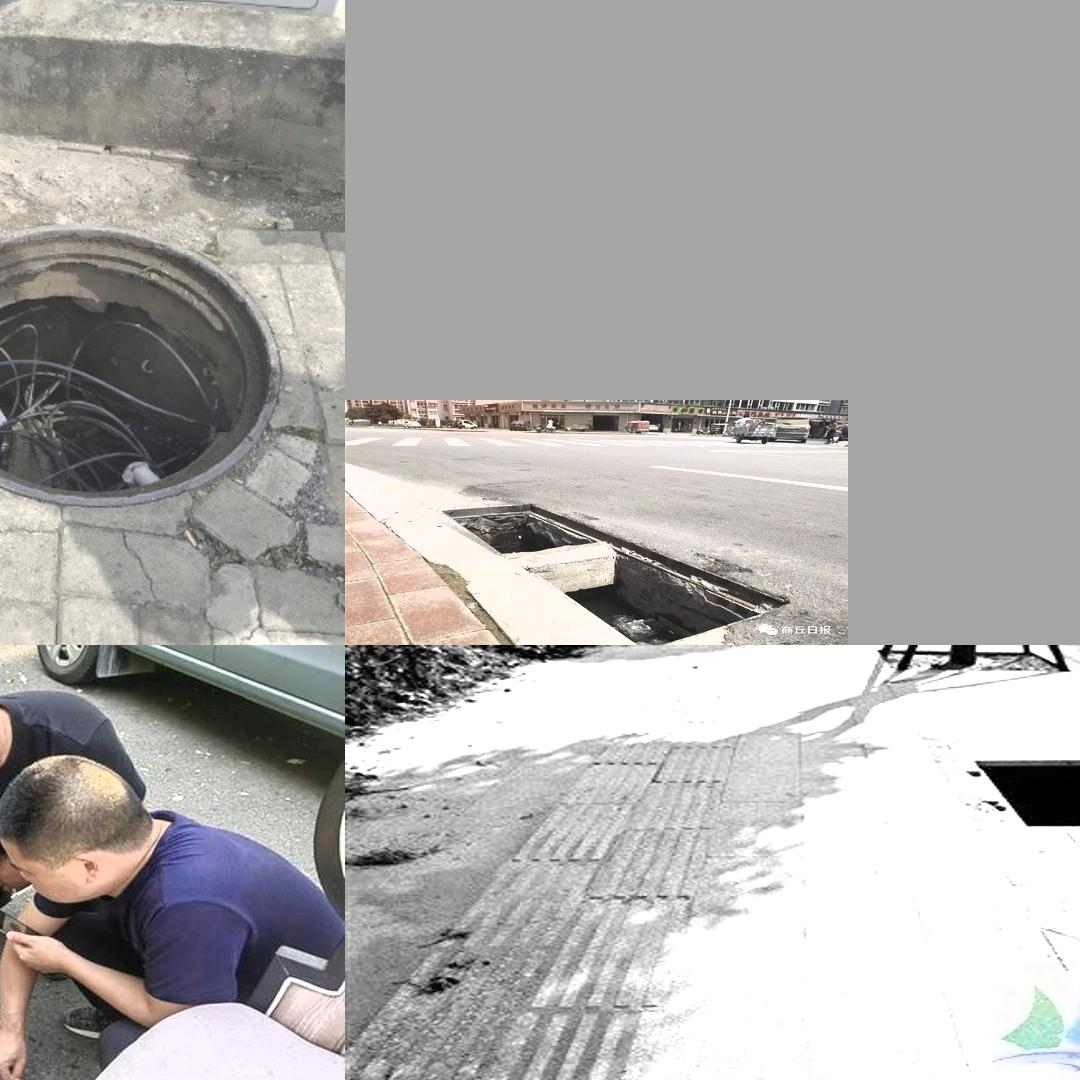lose: (0, 225, 283, 509), (425, 499, 792, 642), (933, 731, 1080, 842)
